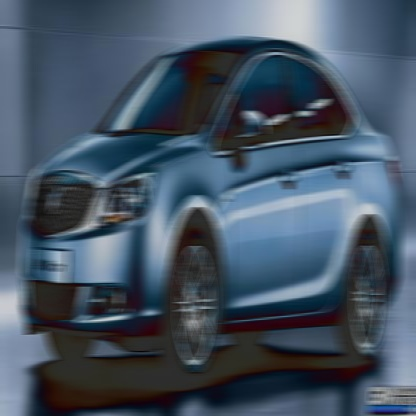Vehicle: (21, 37, 402, 391)
